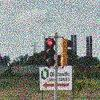traffic lights: (60, 36, 74, 69), (44, 37, 56, 59)
